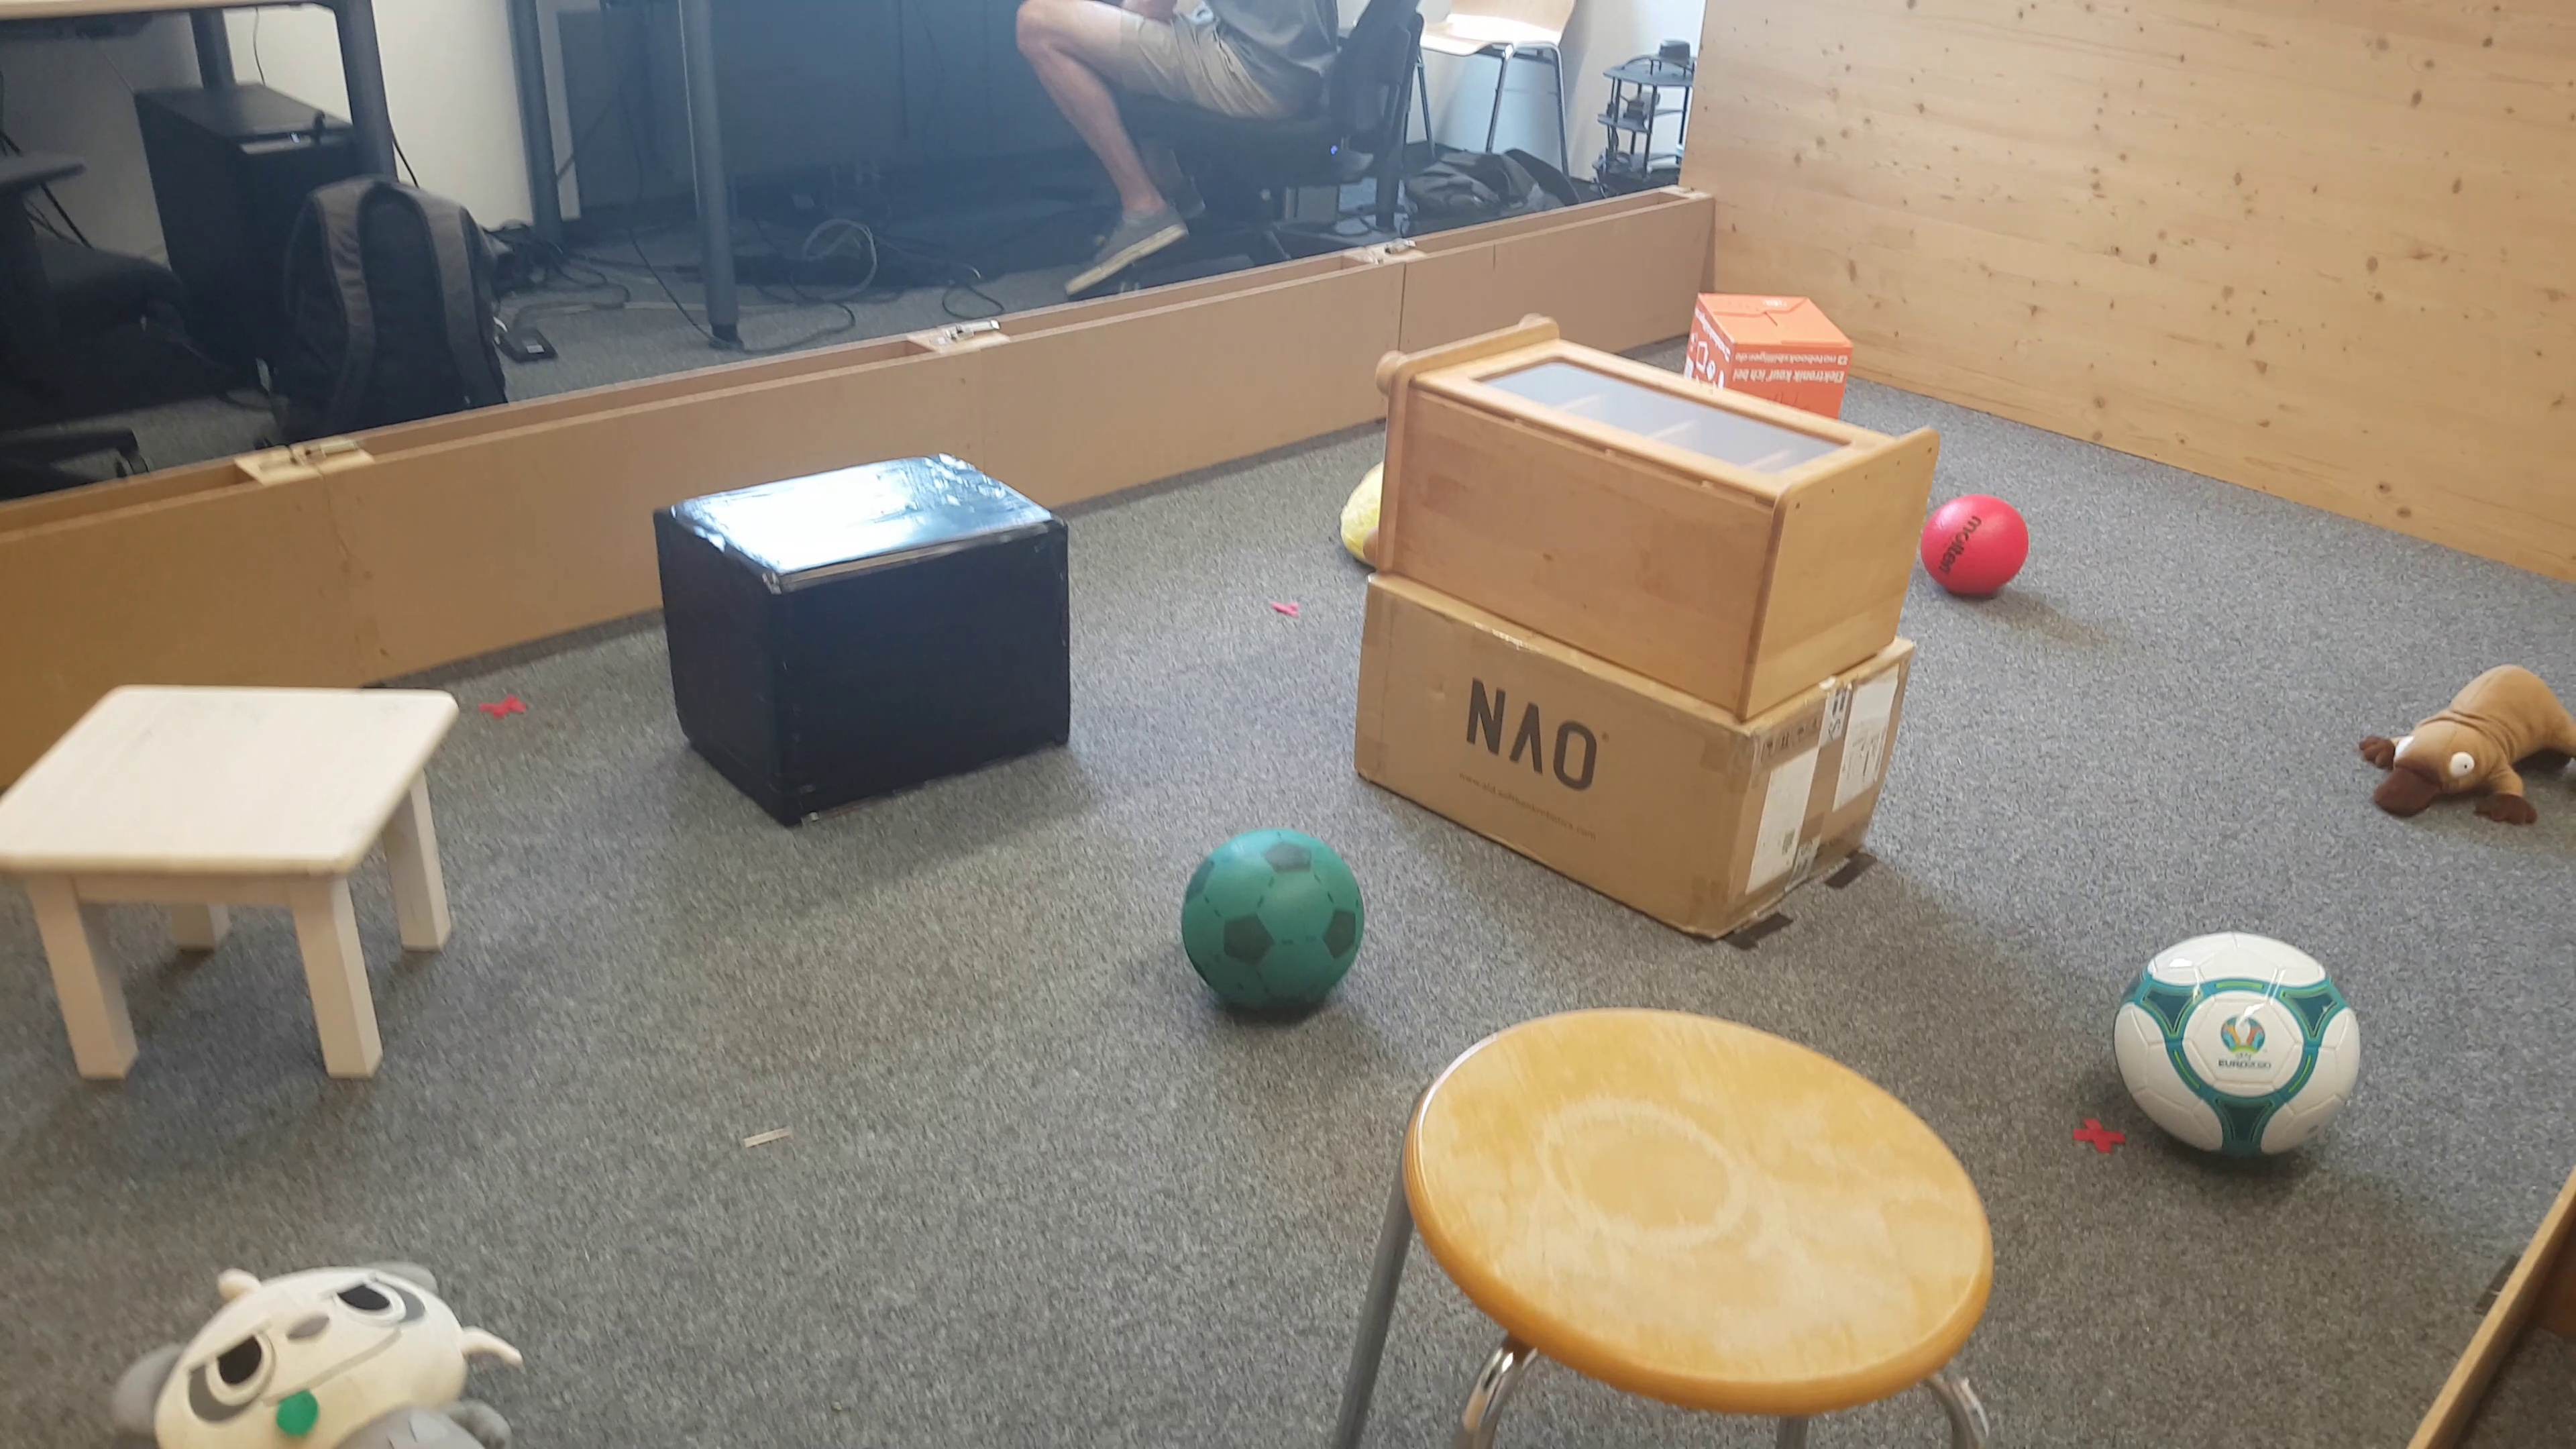grasp: (110, 1254, 534, 1449), (2369, 662, 2576, 826), (1339, 453, 1382, 559)
kick: (2116, 931, 2373, 1175), (1187, 835, 1366, 1026), (1930, 492, 2028, 605)
push: (655, 456, 1077, 830), (1702, 287, 1849, 387)
